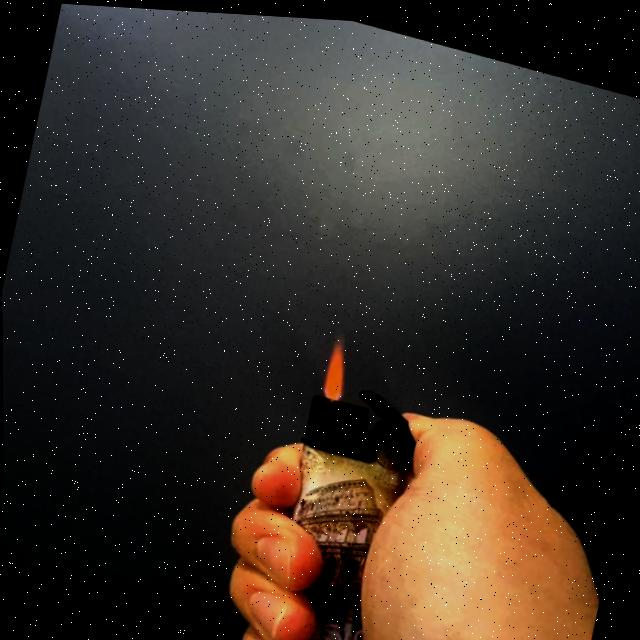Fire: (316, 329, 356, 401)
